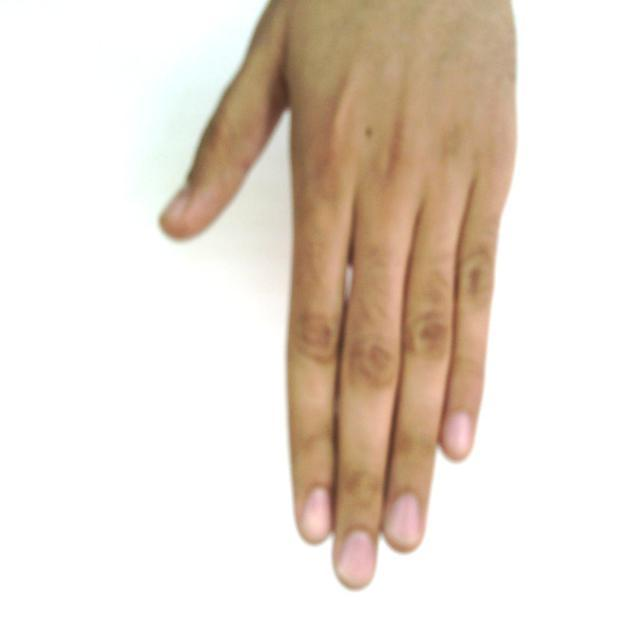Fingernail: (338, 532, 376, 583), (389, 491, 421, 547), (304, 488, 333, 540), (445, 411, 471, 456), (162, 187, 191, 220)
